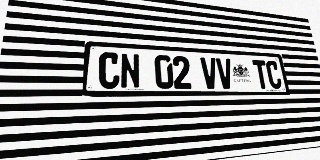0: (154, 55, 174, 89)
2: (172, 56, 191, 89)
C: (98, 52, 120, 89), (265, 60, 283, 89)
N: (120, 53, 140, 89)
T: (252, 60, 270, 89)
V: (200, 57, 219, 89), (216, 58, 234, 89)
